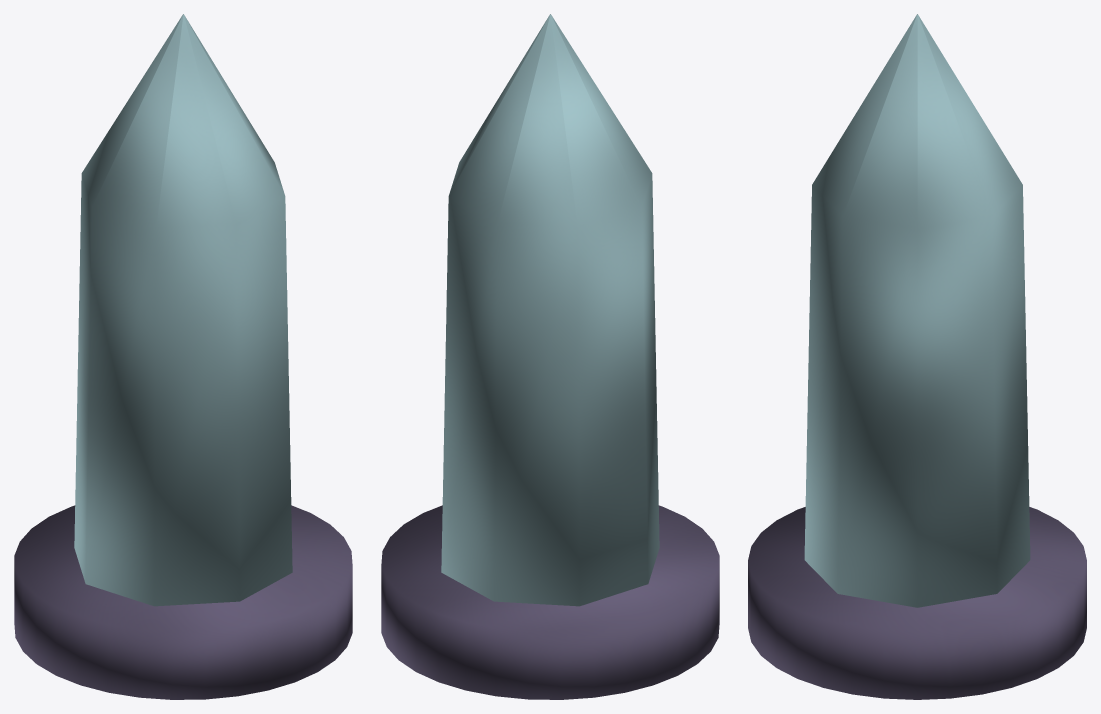
File: crystal_target.glb
3 renders of one model, left to right at view 1: azimuth 30°, elevation 25°; view 2: azimuth 150°, elevation 25°; view 3: azimuth 270°, elevation 25°, orthographic.
Visible parts, largest first — view 1: target_crystal, crystal_base; view 2: target_crystal, crystal_base; view 3: target_crystal, crystal_base.
Part boxes in pixels (x1,y1,x2,y2): target_crystal: (74, 14, 292, 606); crystal_base: (14, 505, 352, 699); target_crystal: (441, 14, 659, 606); crystal_base: (381, 505, 719, 699); target_crystal: (804, 14, 1030, 607); crystal_base: (748, 507, 1086, 699).
Bounding box in the file's own units: 0.9 × 1.8 × 0.9.
Materials: 2 (2 with a texture image).
